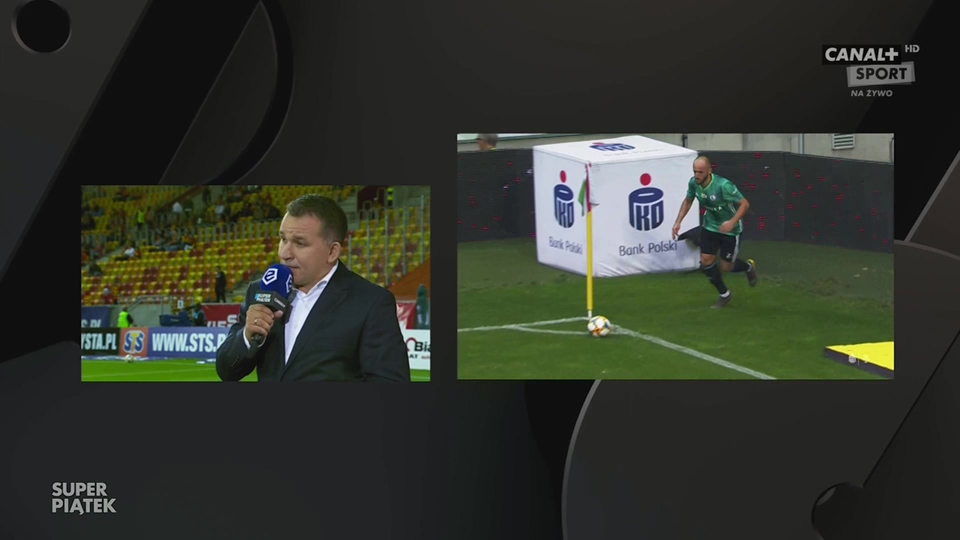pko: (619, 171, 670, 233), (549, 167, 577, 231), (586, 142, 636, 153)
